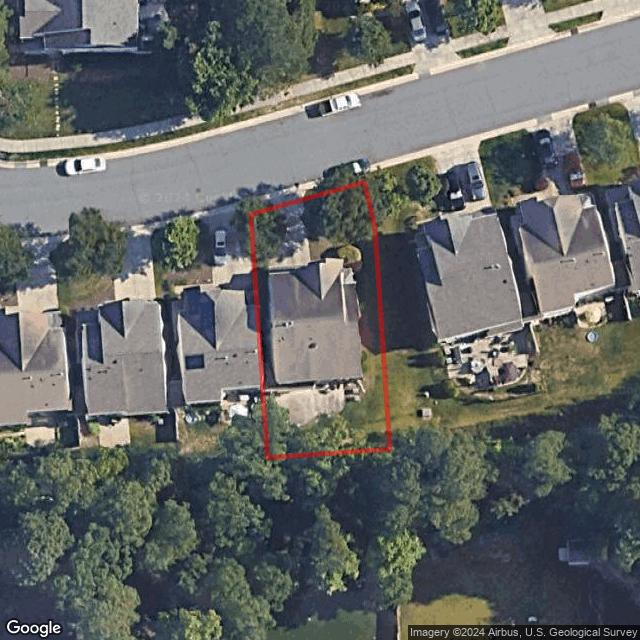Driveway: (263, 200, 310, 268)
Extra-Driveway: (261, 190, 307, 214)
Extra-Lawn: (305, 174, 364, 198), (248, 202, 262, 216)
House: (265, 259, 363, 384)
Lawn: (251, 181, 390, 457)
Other: (269, 380, 361, 431)
